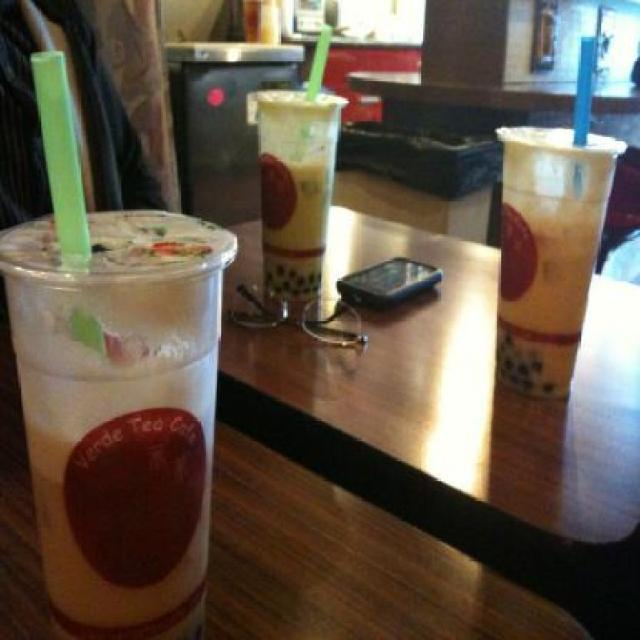Juice: (495, 126, 613, 408)
